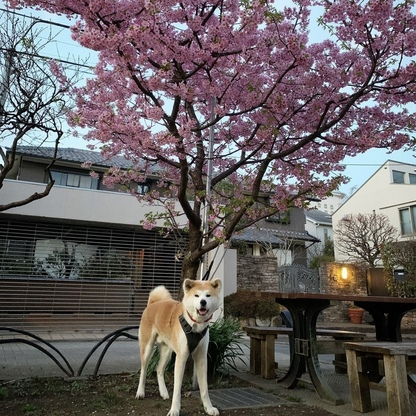akita: (128, 274, 234, 416)
